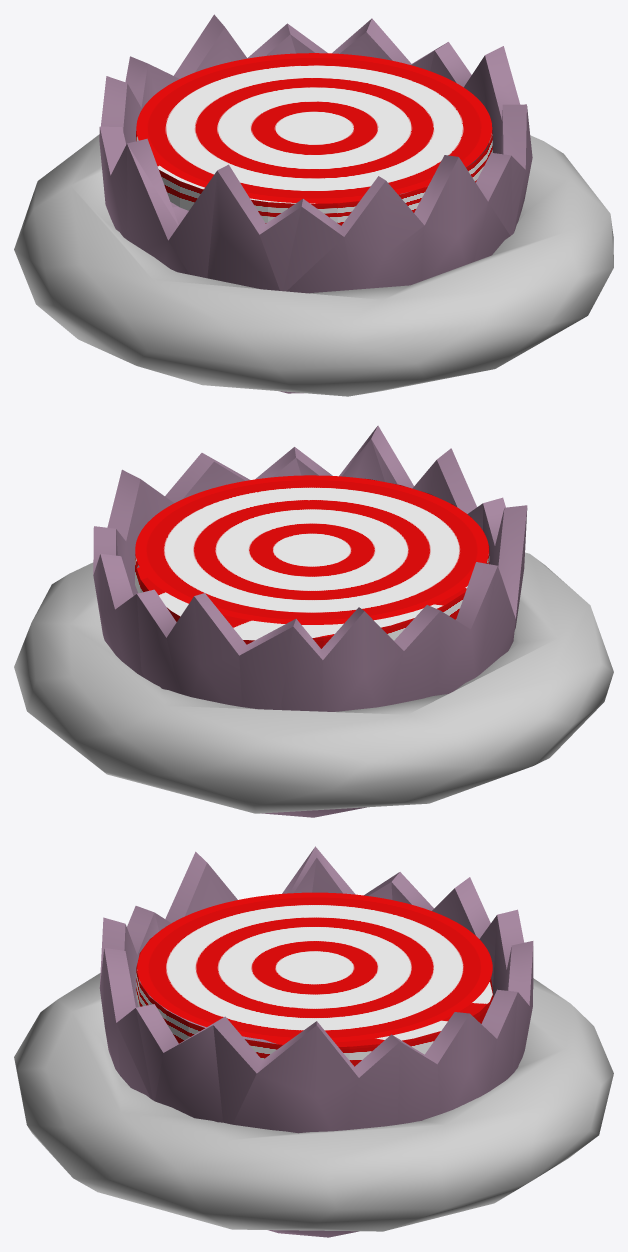
Rendered from WaterTarget.fbx.
3 views of the same model, one above another, from view 1: azimuth 30°, elevation 25°; view 2: azimuth 150°, elevation 25°; view 3: azimuth 270°, elevation 25° (orthographic).
Parts seen in each view (by area): view 1: Torus, Egg_ShallA.001, Cylinder.001; view 2: Torus, Egg_ShallA.001, Cylinder.001; view 3: Torus, Egg_ShallA.001, Cylinder.001.
Boxes of the visible parts, x1=… form: Torus: x1=14, y1=134, x2=613, y2=396; Egg_ShallA.001: x1=99, y1=14, x2=532, y2=393; Cylinder.001: x1=136, y1=53, x2=492, y2=225; Torus: x1=14, y1=552, x2=613, y2=813; Egg_ShallA.001: x1=93, y1=425, x2=527, y2=817; Cylinder.001: x1=135, y1=475, x2=489, y2=648; Torus: x1=14, y1=973, x2=613, y2=1231; Egg_ShallA.001: x1=99, y1=846, x2=533, y2=1237; Cylinder.001: x1=136, y1=892, x2=493, y2=1066.
Size of the model in its own units: 597 by 314 by 594.
